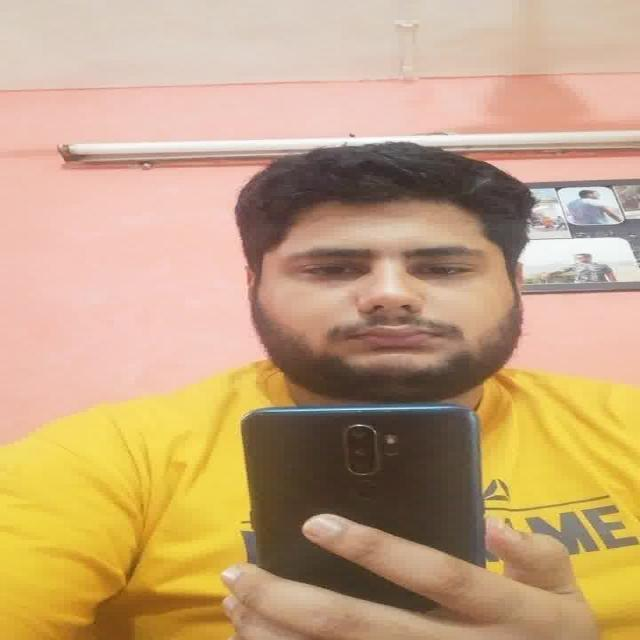Phone: (241, 402, 482, 616)
